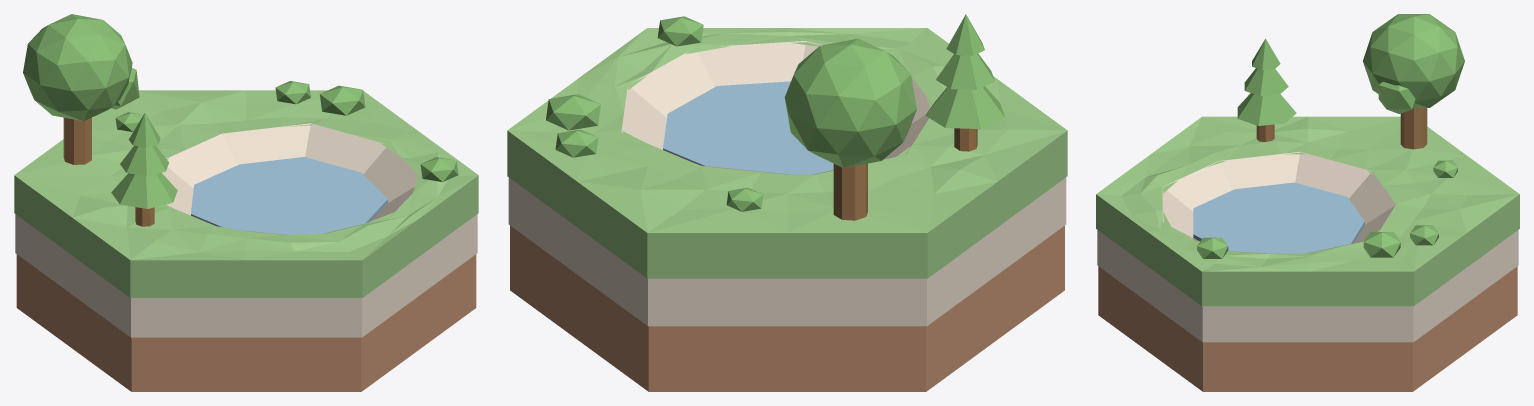
Rendered from paradise-v5.glb.
The picture shows the model from 3 angles, left to right: view 1: azimuth 30°, elevation 25°; view 2: azimuth 150°, elevation 25°; view 3: azimuth 270°, elevation 25°; orthographic projection. The views are drawn at different scales.
Parts seen in each view (by area): view 1: GRASS_top, HEX_brown, HEX_cream, HEX_grass_side, POND_water, POND_walls, T0_crown, T1_tier_0, T0_trunk, T1_tier_1, BUSH_0, BUSH_3 (+4 smaller); view 2: GRASS_top, HEX_brown, HEX_cream, HEX_grass_side, T0_crown, POND_water, POND_walls, T1_tier_0, T0_trunk, BUSH_0, T1_tier_1, BUSH_3 (+4 smaller); view 3: GRASS_top, HEX_brown, HEX_cream, HEX_grass_side, POND_water, POND_walls, T0_crown, T1_tier_0, T0_trunk, T1_tier_1, T0_tuft, BUSH_0 (+4 smaller).
Boxes of the visible parts, x1,y1,x2,y2 form: GRASS_top: (14, 90, 478, 260); HEX_brown: (16, 254, 476, 391); HEX_cream: (15, 195, 477, 337); HEX_grass_side: (14, 175, 478, 297); POND_water: (191, 157, 387, 234); POND_walls: (162, 123, 419, 236); T0_crown: (23, 14, 132, 121); T1_tier_0: (111, 173, 177, 208); T0_trunk: (63, 117, 91, 164); T1_tier_1: (120, 145, 168, 176); BUSH_0: (319, 85, 365, 115); BUSH_3: (420, 157, 458, 181); GRASS_top: (507, 28, 1067, 232); HEX_brown: (510, 225, 1064, 391); HEX_cream: (508, 177, 1066, 326); HEX_grass_side: (507, 118, 1067, 278); T0_crown: (784, 38, 916, 167); POND_water: (663, 81, 833, 174); POND_walls: (621, 41, 932, 175); T1_tier_0: (925, 86, 1005, 128); T0_trunk: (833, 163, 867, 220); BUSH_0: (546, 94, 600, 130); T1_tier_1: (936, 53, 994, 89); BUSH_3: (657, 16, 703, 46); GRASS_top: (1096, 116, 1519, 271); HEX_brown: (1098, 266, 1517, 391); HEX_cream: (1097, 215, 1518, 342); HEX_grass_side: (1096, 194, 1519, 306); POND_water: (1193, 182, 1364, 253); POND_walls: (1162, 151, 1395, 254); T0_crown: (1363, 14, 1464, 107); T1_tier_0: (1237, 93, 1296, 125); T0_trunk: (1400, 108, 1427, 149); T1_tier_1: (1244, 68, 1288, 96); T0_tuft: (1378, 81, 1415, 113); BUSH_0: (1363, 232, 1400, 257).
Size of the model in its own units: 1.73 by 1.3 by 2.
